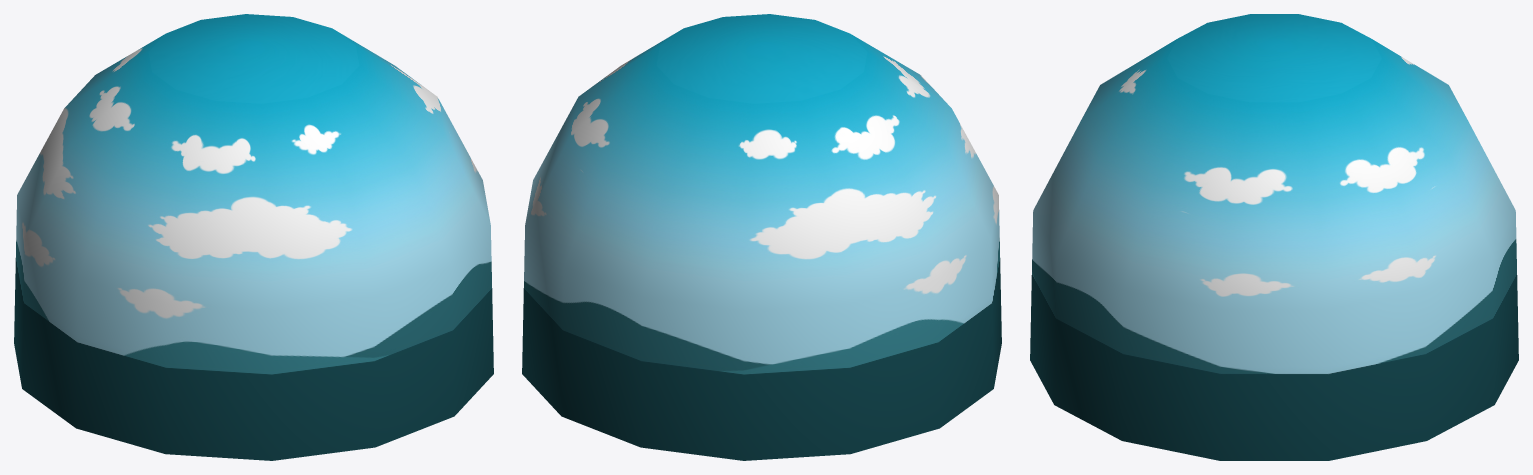
File: sky.FBX
3 renders of one model, left to right at view 1: azimuth 30°, elevation 25°; view 2: azimuth 150°, elevation 25°; view 3: azimuth 270°, elevation 25°, orthographic.
Visible parts, largest first — view 1: sky; view 2: sky; view 3: sky.
Part boxes in pixels (<box>): sky: <box>14,14,493,460</box>; sky: <box>522,14,1001,460</box>; sky: <box>1030,14,1518,460</box>.
Bounding box in the file's own units: 136 × 99.18 × 139.
